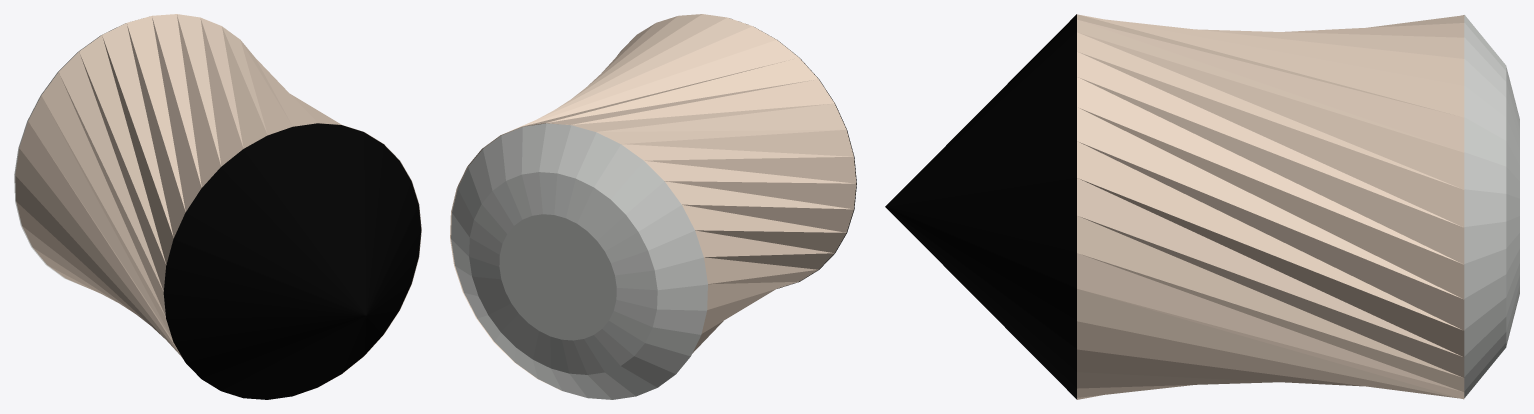
File: Bullet2.dae
3 renders of one model, left to right at view 1: azimuth 30°, elevation 25°; view 2: azimuth 150°, elevation 25°; view 3: azimuth 270°, elevation 25°, orthographic. The views are drawn at different scales.
Parts seen in each view (by area): view 1: Head, Body, Tail; view 2: Tail, Body; view 3: Body, Head, Tail.
Part boxes in pixels (<box>): Head: <box>163,123,421,399</box>; Body: <box>15,14,421,387</box>; Tail: <box>14,23,125,286</box>; Tail: <box>451,123,707,399</box>; Body: <box>450,14,856,390</box>; Body: <box>1077,14,1464,399</box>; Head: <box>885,14,1076,399</box>; Tail: <box>1464,15,1519,397</box>.
Size of the model in its own units: 2.01 by 3.29 by 2.
